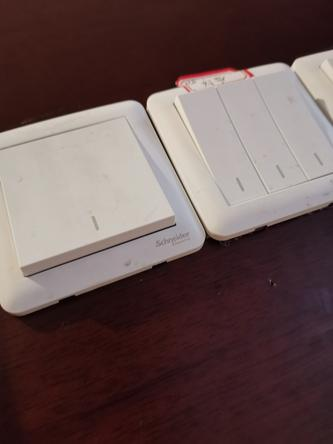switch: (1, 106, 187, 270), (171, 80, 269, 208), (214, 69, 308, 194), (257, 62, 333, 184)
